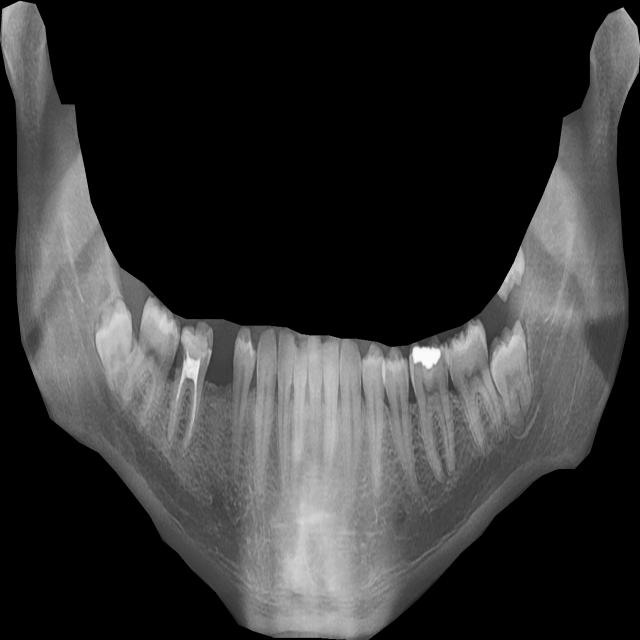mandibula: (0, 1, 640, 640)
